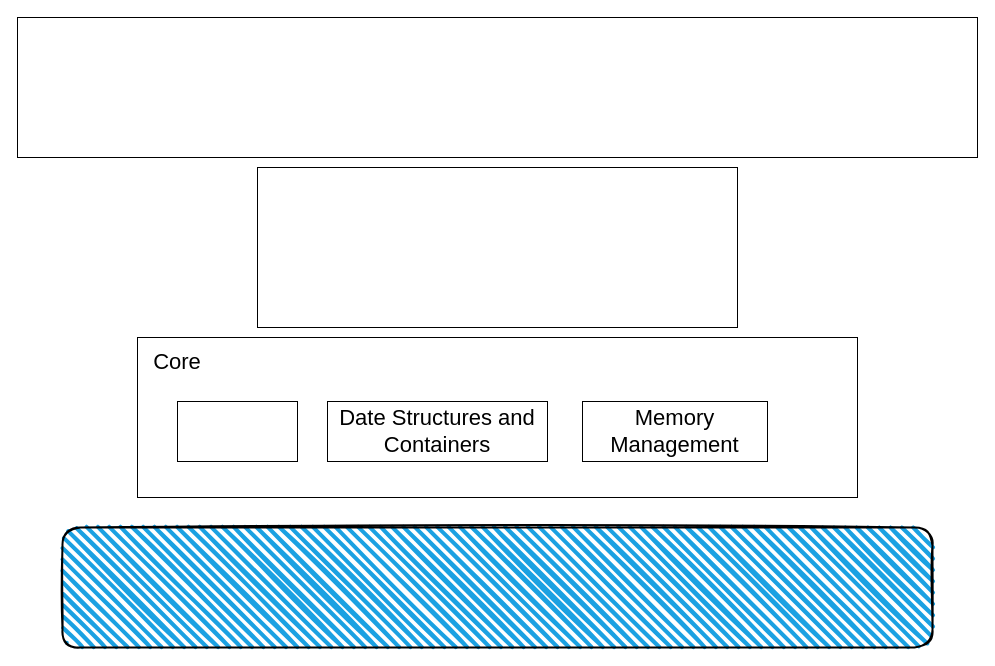
Image size: 995x666. Some labels were removed from this diagram. Each missing label, with the centre of its shape:
"Math" goes at point (237, 431).
"Platform(Windows+Vulkan for now)" goes at point (497, 587).
